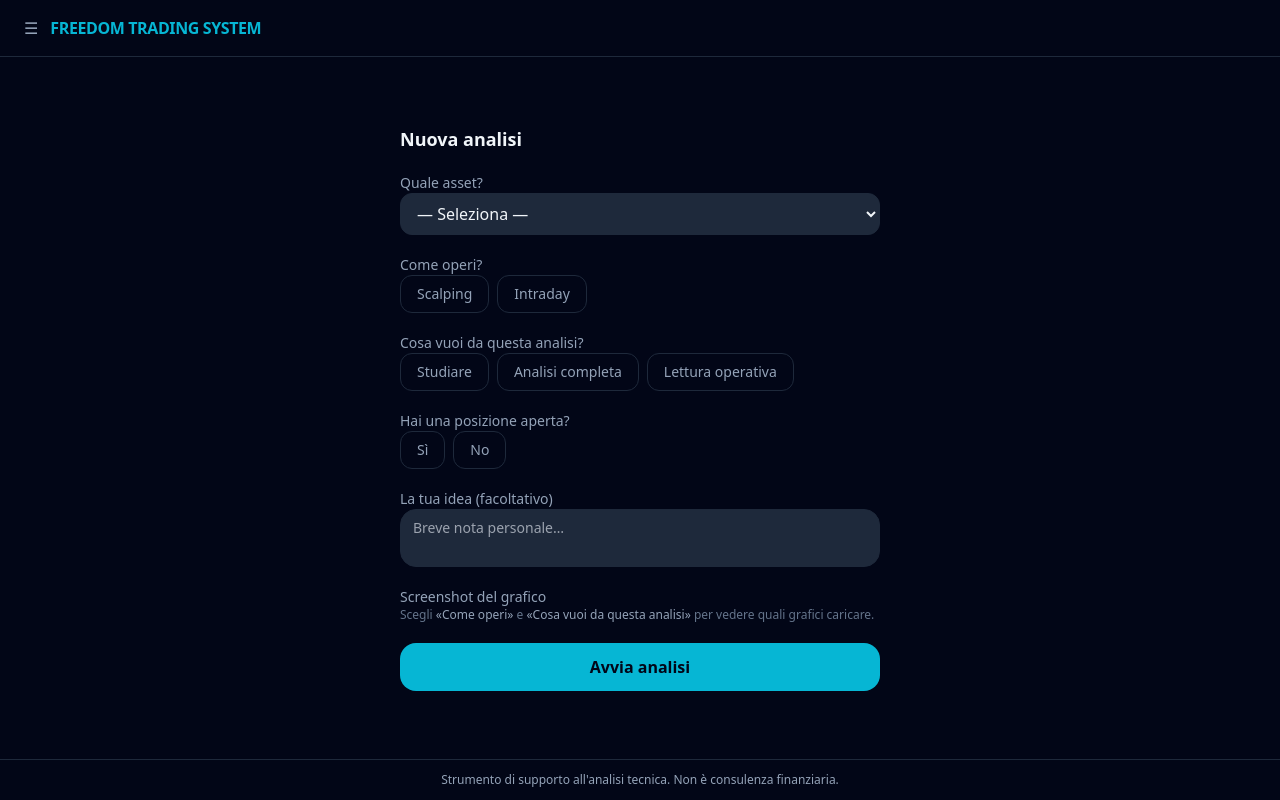
Chat (pagina) › apre una chat dello storico restando nella pagina Chat
Click the button named "Apri menu". click: (31, 28)
box: [24, 16, 38, 40]
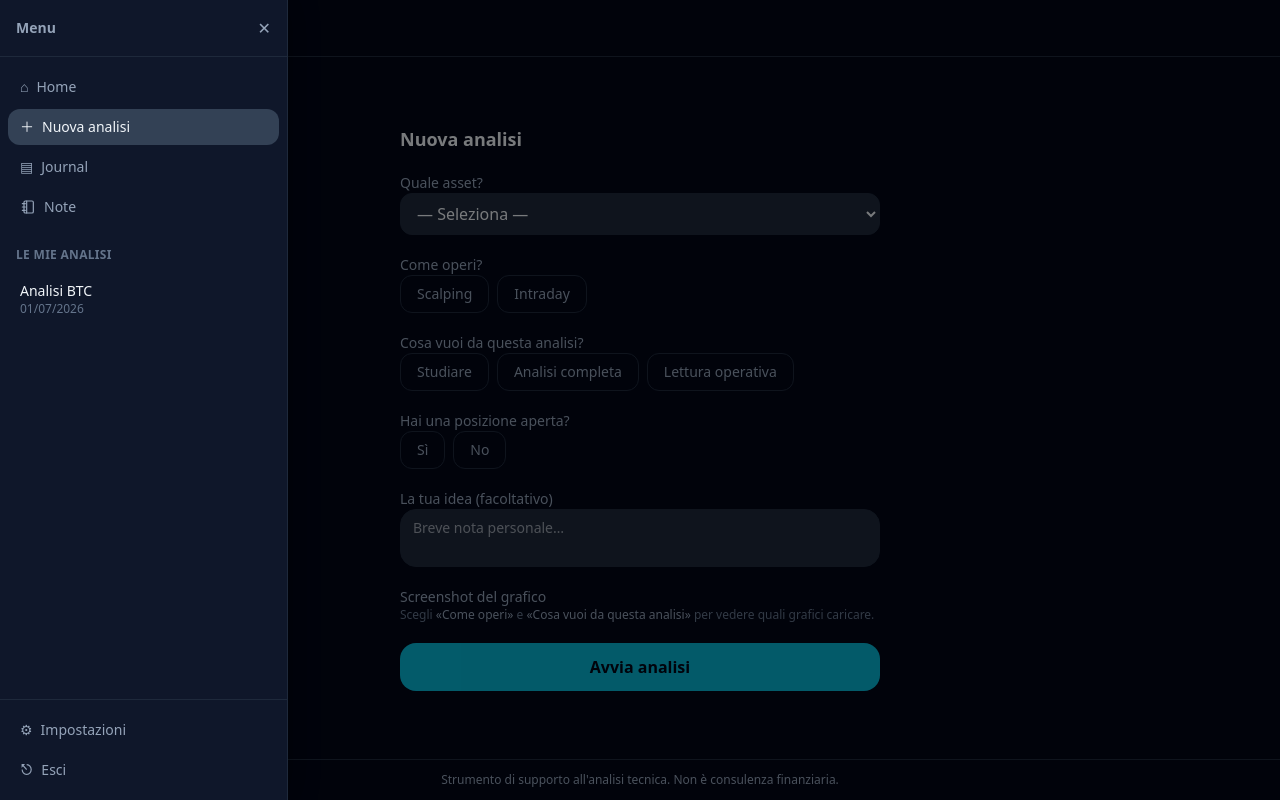
Click the text "Analisi BTC". click: (56, 290)
box: [20, 281, 92, 300]
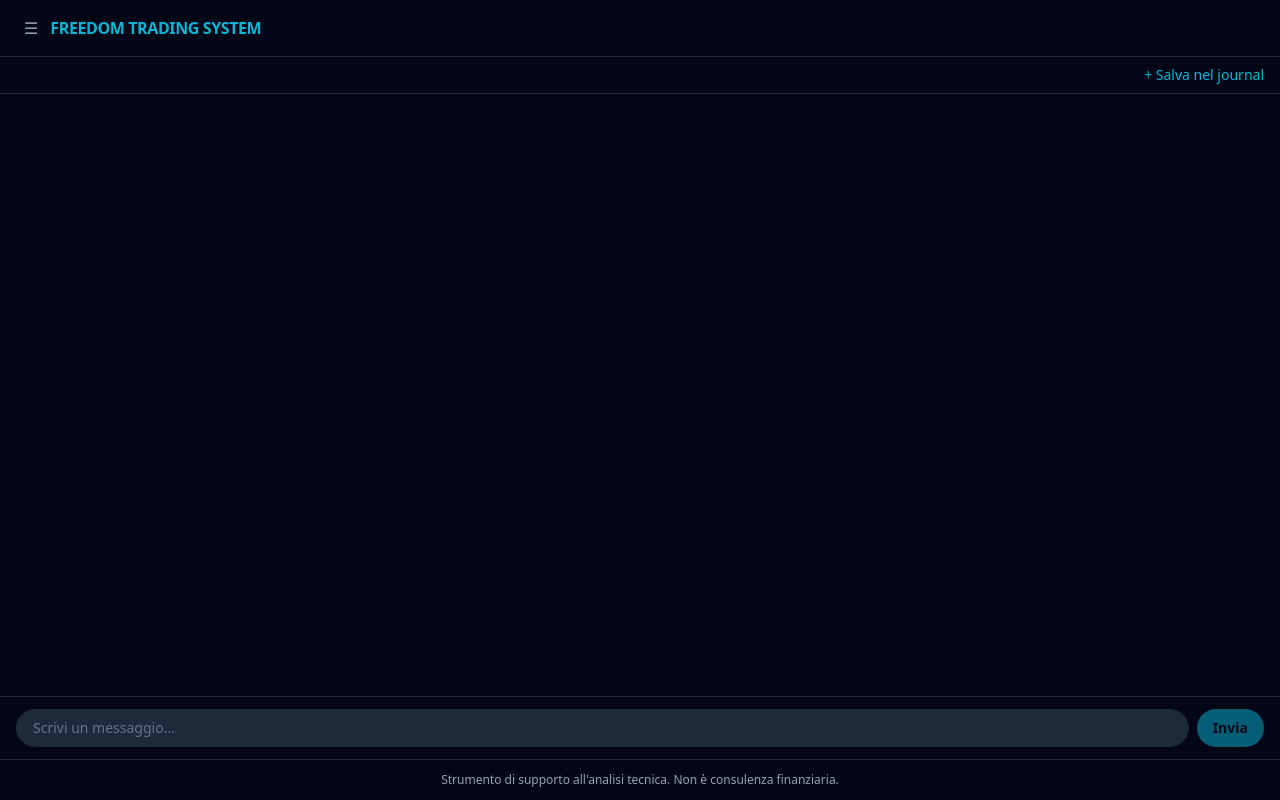
Result: the text "Menu" is gone
